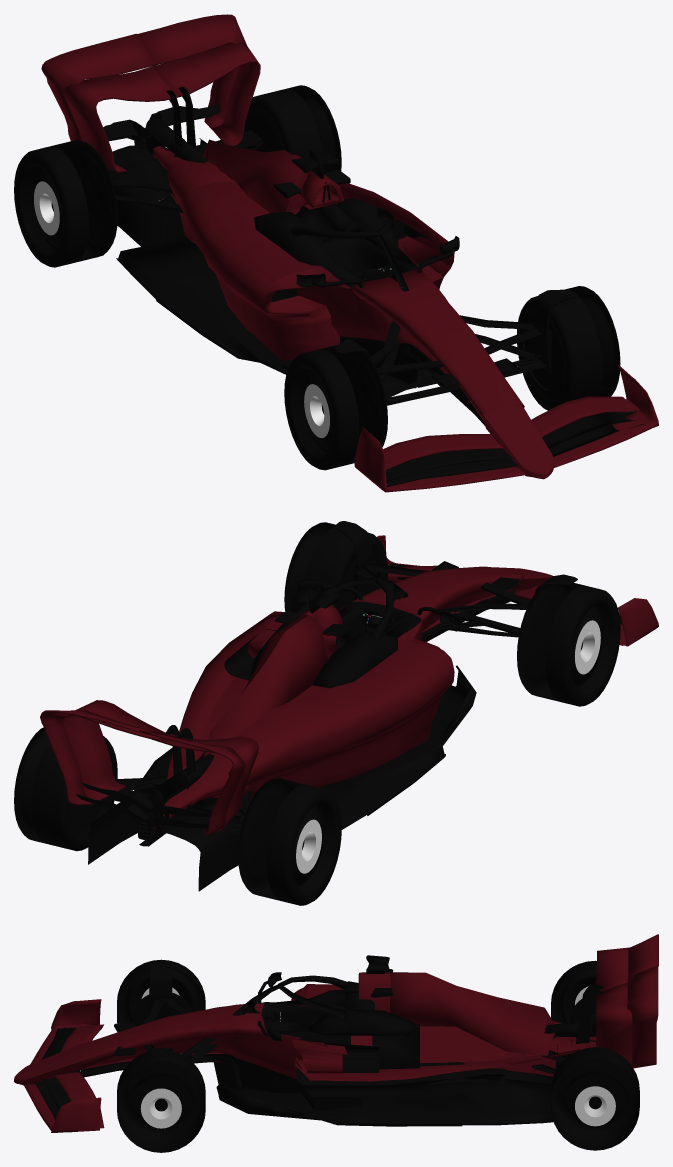
Rendered from car 1.fbx.
3 views of the same model, one above another, from view 1: azimuth 30°, elevation 25°; view 2: azimuth 150°, elevation 25°; view 3: azimuth 270°, elevation 25° (orthographic). The views are drawn at different scales.
Visible parts, largest first — view 1: Plane.040; view 2: Plane.040; view 3: Plane.040.
Boxes of the visible parts, left/top/right/bottom form: Plane.040: left=14, top=14, right=658, bottom=492; Plane.040: left=14, top=521, right=658, bottom=905; Plane.040: left=14, top=934, right=658, bottom=1152.
Size of the model in its own units: 178 by 108 by 446.
